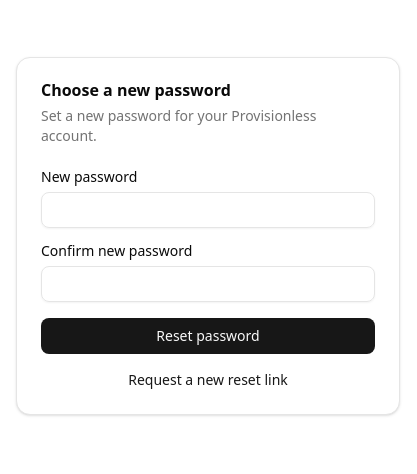
Test: shows a clear error for an invalid or expired token
The width and height of the screenshot is (417, 474).
In the password field labelled "New password": (208, 210) [41,192,375,228], type "new-lovelace"
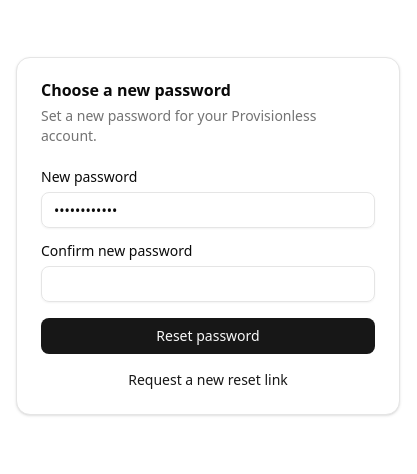
In the password field labelled "Confirm new password": (208, 284) [41,266,375,302], type "new-lovelace"
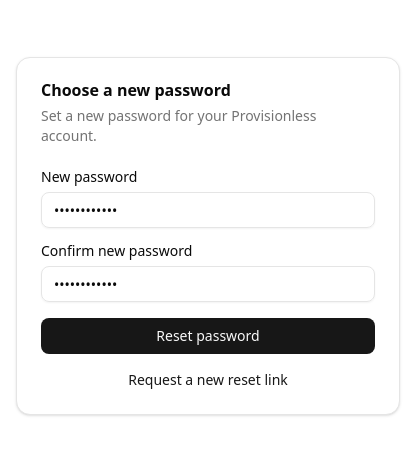
Click the button "Reset password": (208, 336) [41,318,375,354]
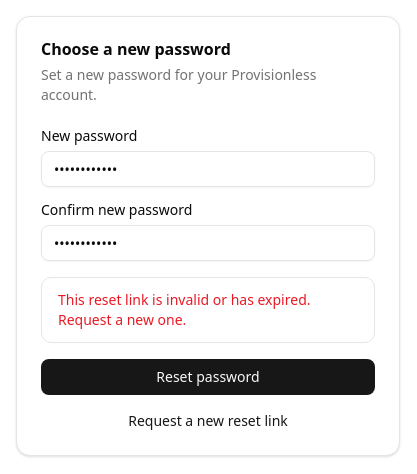
expect the message reads "This reset link is invalid or has expired. Request a new one.": met, box [58,290,310,329]
